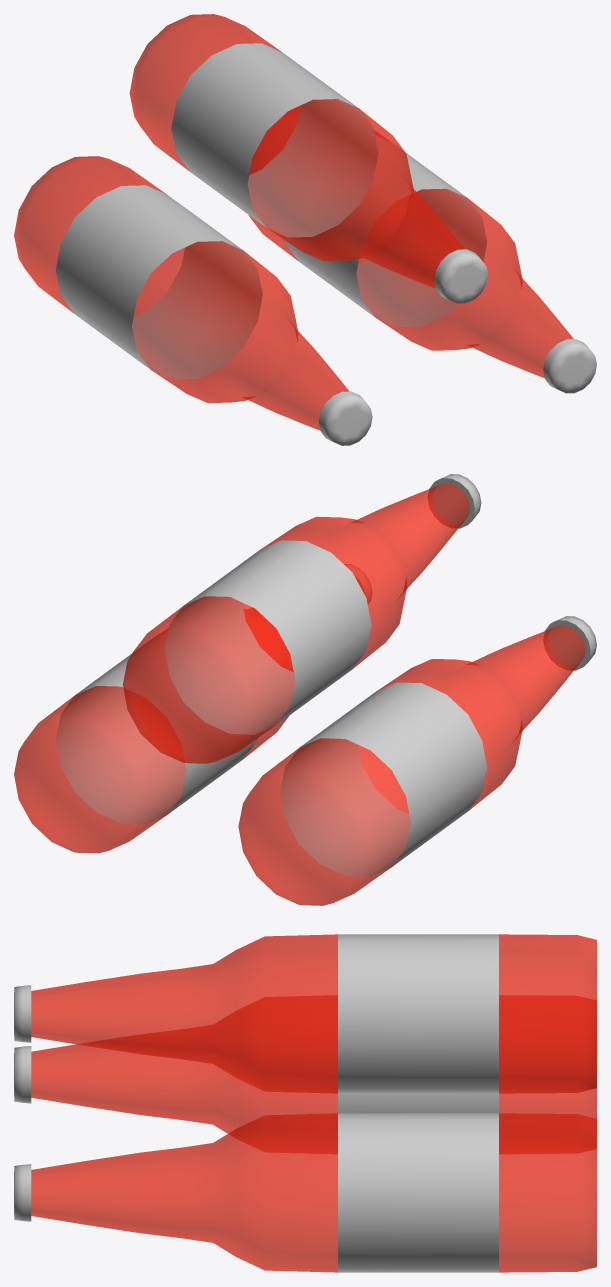
The model's file is Glass_00.fbx.
3 renders of one model, top to bottom at view 1: azimuth 30°, elevation 25°; view 2: azimuth 150°, elevation 25°; view 3: azimuth 270°, elevation 25°, orthographic. The views are drawn at different scales.
Visible parts, largest first — view 1: Circle.005; view 2: Circle.005; view 3: Circle.005.
Part boxes in pixels (box(x1,y1,x2,y2)): Circle.005: box(14, 14, 596, 445); Circle.005: box(14, 474, 596, 905); Circle.005: box(14, 934, 596, 1272).
Size of the model in its own units: 87.02 by 59.27 by 117.
